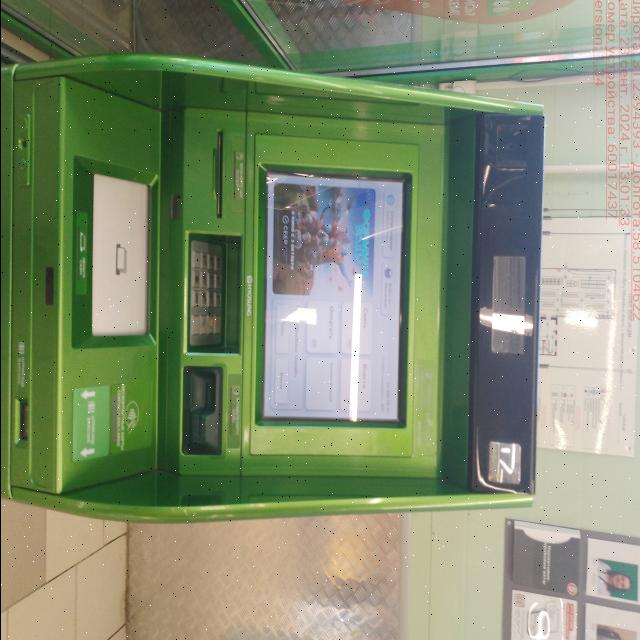bank: (0, 52, 549, 529)
